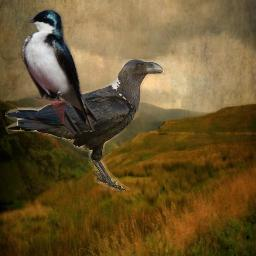Crow: (5, 59, 166, 191)
Swallow: (20, 8, 98, 134)
